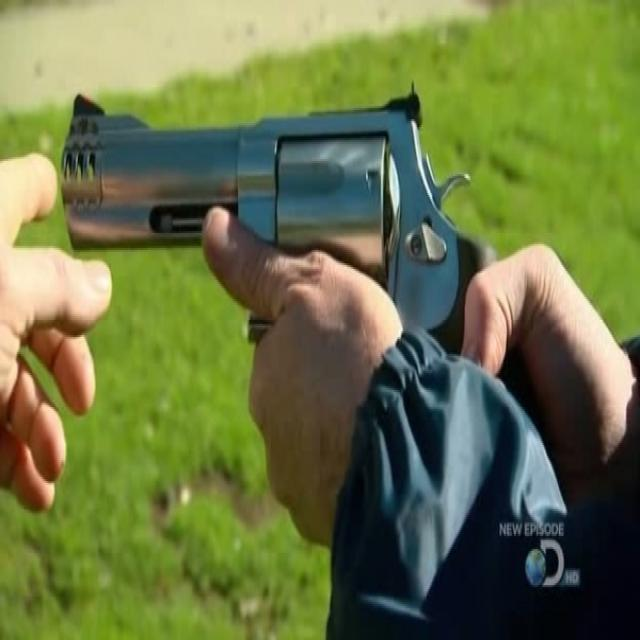weapons: (52, 55, 504, 396)
